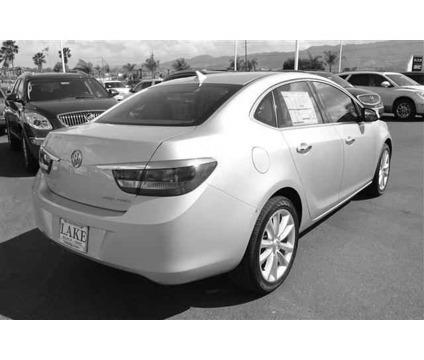car: (34, 73, 394, 292)
